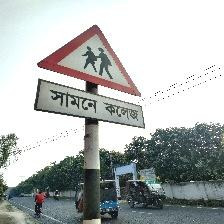College-in-front: (24, 22, 168, 153)
